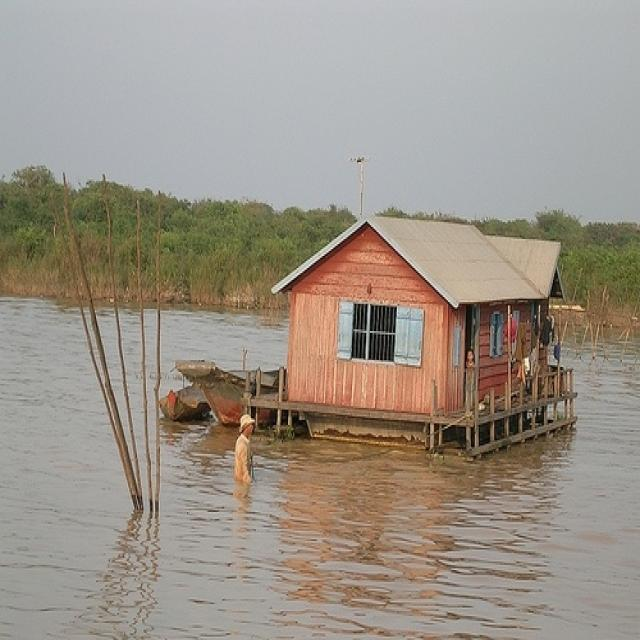Raft: (275, 198, 584, 458)
